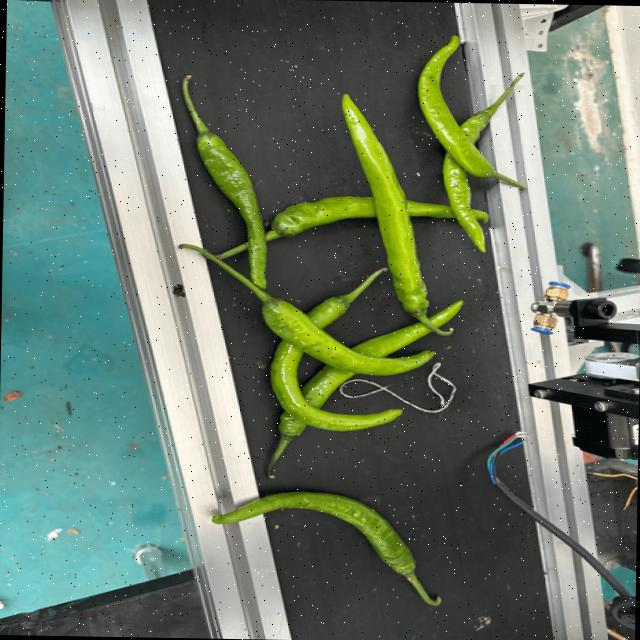chili: (275, 296, 465, 441), (337, 89, 427, 319), (268, 295, 405, 433), (204, 490, 415, 576), (260, 296, 438, 378), (194, 126, 267, 291), (415, 32, 496, 180), (267, 194, 491, 240), (440, 109, 491, 254)
